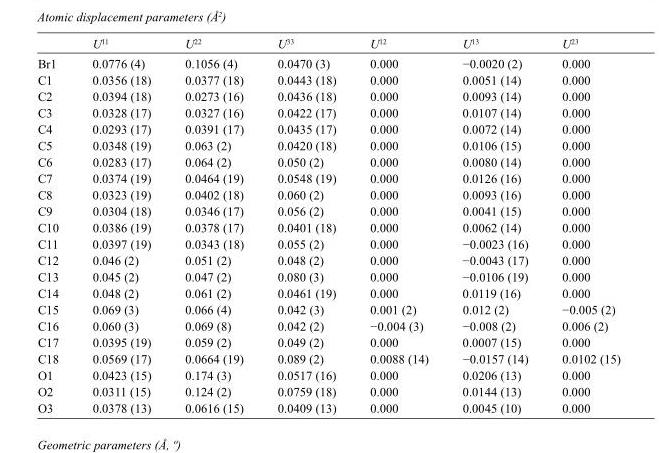table: (36, 36, 620, 414)
table column: (444, 36, 544, 414), (74, 36, 167, 414), (259, 36, 352, 414), (167, 36, 259, 414), (352, 36, 444, 414), (544, 36, 620, 414), (36, 36, 74, 414)
table column header: (36, 36, 620, 53)
table row: (36, 53, 620, 71), (36, 36, 620, 53), (36, 87, 620, 104), (36, 120, 620, 137), (36, 169, 620, 186), (36, 202, 620, 219), (36, 235, 620, 252), (36, 284, 620, 301), (36, 317, 620, 334), (36, 366, 620, 383), (36, 71, 620, 87), (36, 104, 620, 120), (36, 137, 620, 153), (36, 153, 620, 169), (36, 186, 620, 202), (36, 219, 620, 235), (36, 252, 620, 268), (36, 268, 620, 284), (36, 301, 620, 317), (36, 334, 620, 350), (36, 350, 620, 366), (36, 383, 620, 399), (36, 399, 620, 414)
